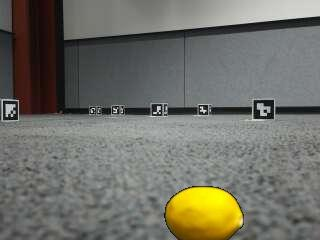lemon: (165, 186, 244, 240)
